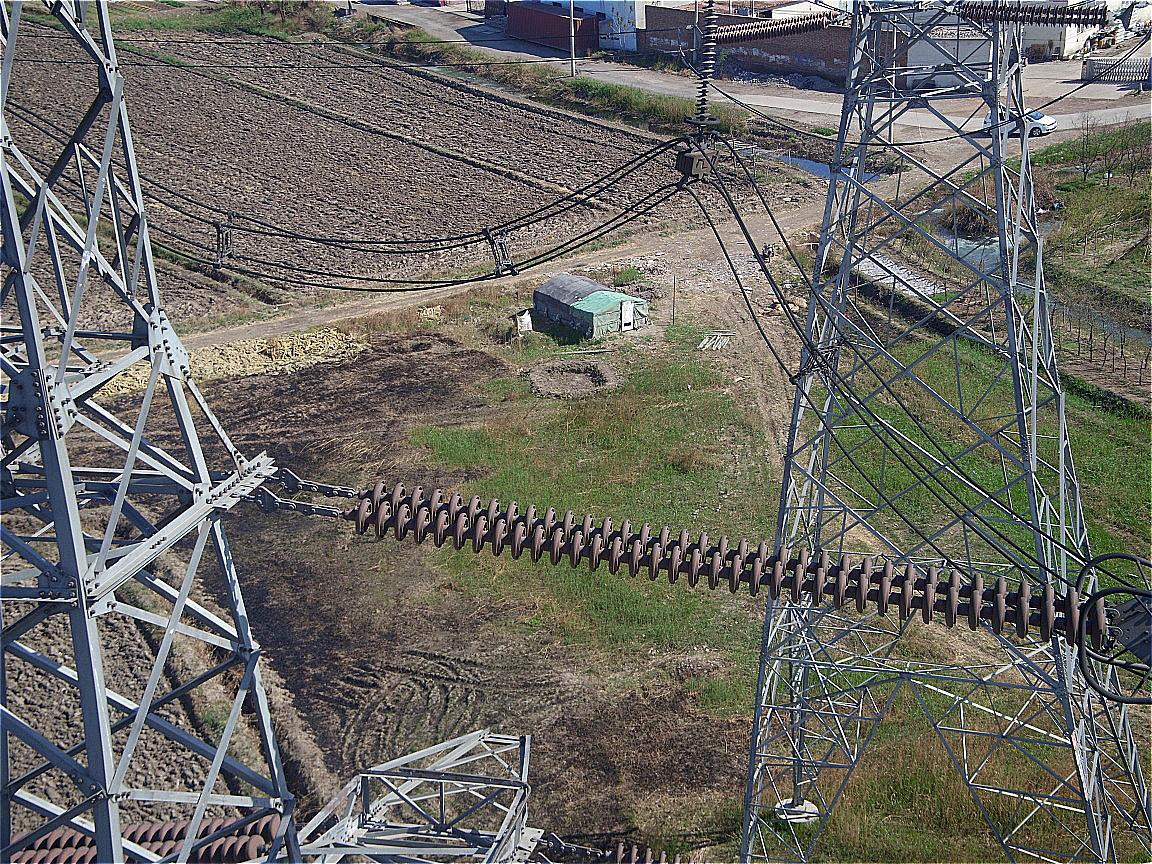insultor1: (354, 480, 1034, 638), (12, 813, 280, 861)
insultor2: (711, 8, 837, 44), (958, 2, 1111, 27)
